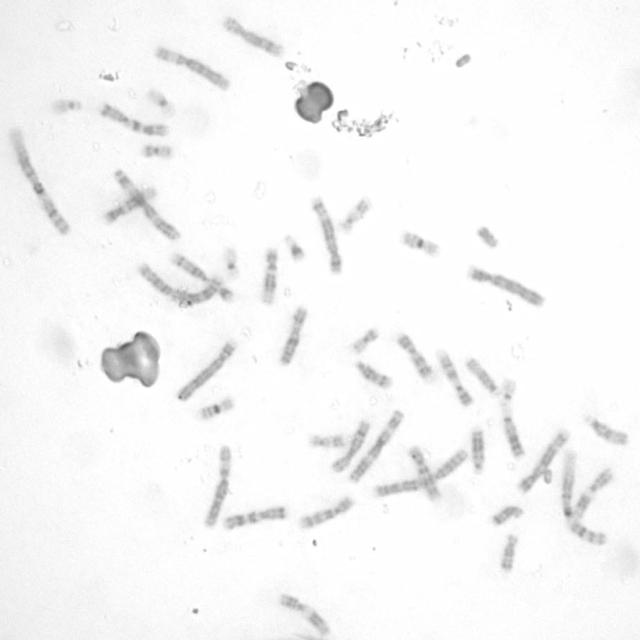A1: (5, 122, 73, 238), (557, 447, 608, 546)
A2: (369, 444, 471, 500), (135, 260, 226, 309)
A3: (110, 164, 182, 243), (346, 406, 406, 484)
B4: (173, 337, 237, 402), (462, 260, 546, 308)
B5: (514, 425, 571, 495), (308, 192, 344, 276)
C10: (294, 492, 355, 531), (405, 442, 443, 503)
C11: (274, 590, 332, 638), (568, 468, 614, 522)
C12: (100, 182, 158, 226), (257, 243, 280, 306)
C6: (151, 42, 232, 92), (200, 440, 232, 529)
C7: (96, 99, 170, 137), (218, 502, 288, 532)
C8: (219, 13, 285, 59), (326, 416, 372, 474)
C9: (433, 345, 474, 408), (393, 329, 435, 381)
D13: (499, 409, 526, 460), (468, 424, 487, 475)
D14: (351, 356, 394, 390), (168, 250, 210, 284)
D15: (580, 410, 629, 447), (462, 354, 499, 396)
E16: (397, 226, 442, 260), (194, 392, 236, 423)
E17: (336, 192, 373, 236), (306, 429, 348, 450)
E18: (496, 529, 520, 573), (487, 501, 524, 527)
F19: (144, 85, 178, 120), (220, 244, 242, 281)
F20: (347, 324, 382, 356), (140, 140, 175, 160)
G21: (280, 231, 307, 263), (214, 282, 236, 303)
G22: (48, 93, 84, 117), (497, 375, 518, 404)
X: (275, 302, 309, 368)
Y: (473, 221, 501, 250)
